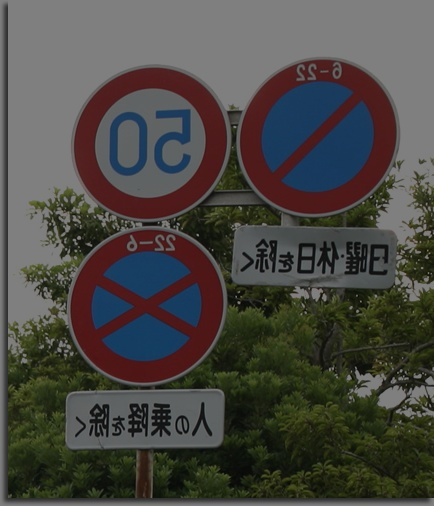Prohibition_sign: (52, 224, 234, 391), (237, 53, 390, 204)
